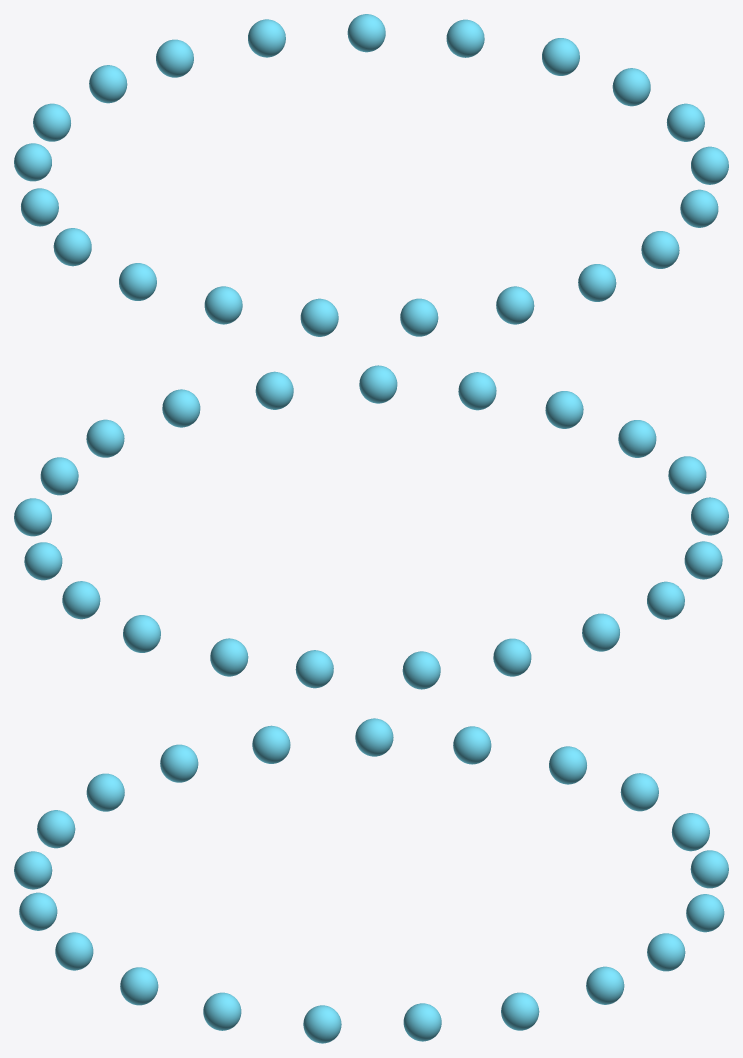
The picture shows the model from 3 angles, top to bottom: view 1: azimuth 30°, elevation 25°; view 2: azimuth 150°, elevation 25°; view 3: azimuth 270°, elevation 25°; orthographic projection.
Visible parts, largest first — view 1: Sphere049; view 2: Sphere049; view 3: Sphere049.
Part boxes in pixels (box(x1,y1,x2,y2)): Sphere049: box(14, 14, 728, 336); Sphere049: box(14, 365, 728, 689); Sphere049: box(14, 718, 728, 1043).
Bounding box in the file's own units: 154 × 8.37 × 153.
